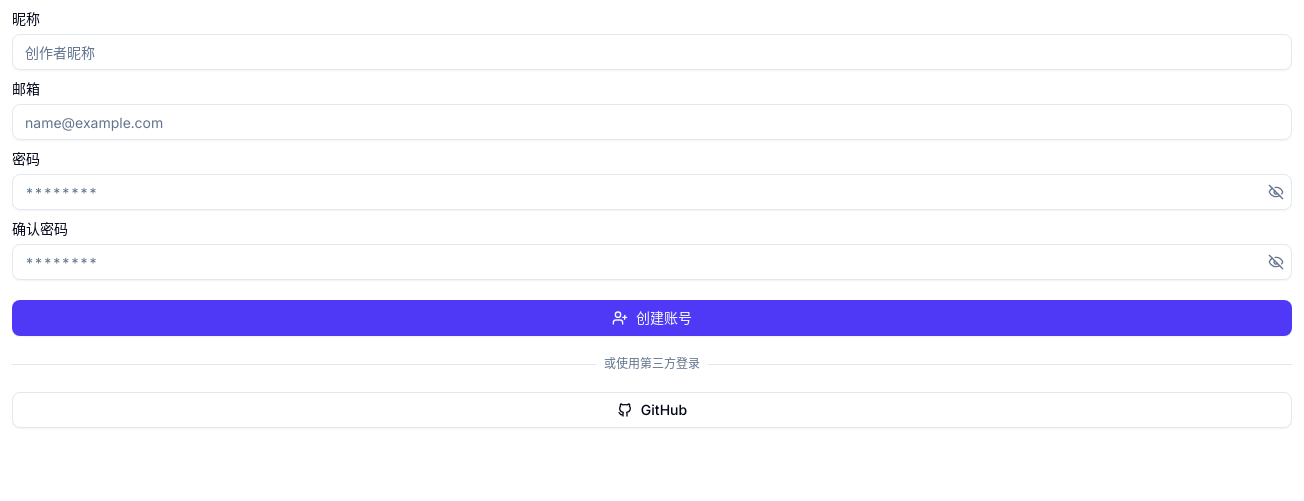
Test: SignUpForm › shows a mismatch error when passwords do not match
Type "测试用户" into the field labelled "昵称".
click(652, 52); type("测试用户")  # box [12, 34, 1292, 70]
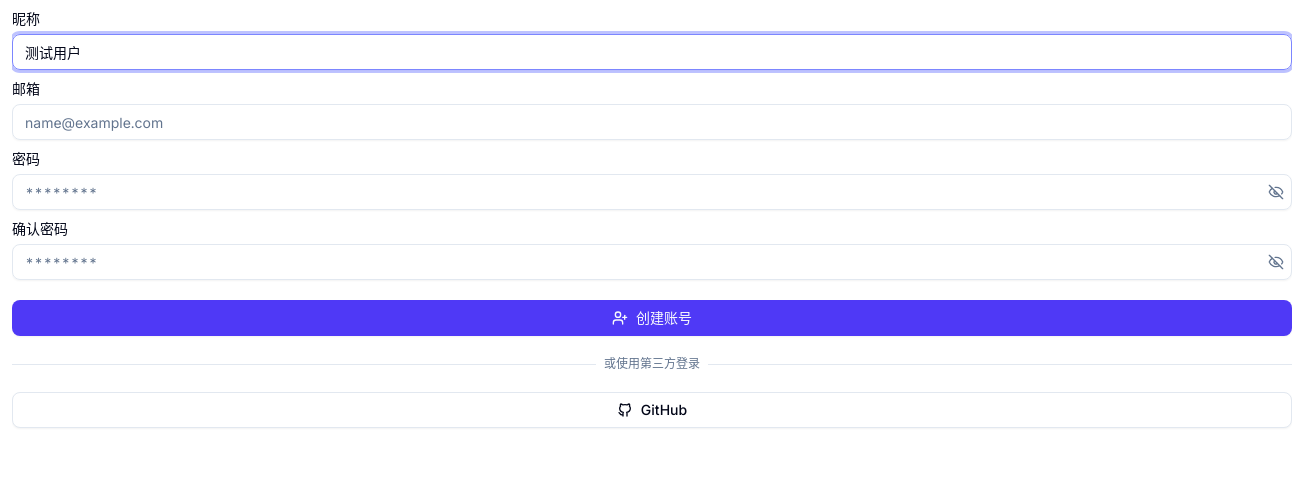
Type "a@b.com" into the field labelled "邮箱".
click(652, 122); type("a@b.com")  # box [12, 104, 1292, 140]
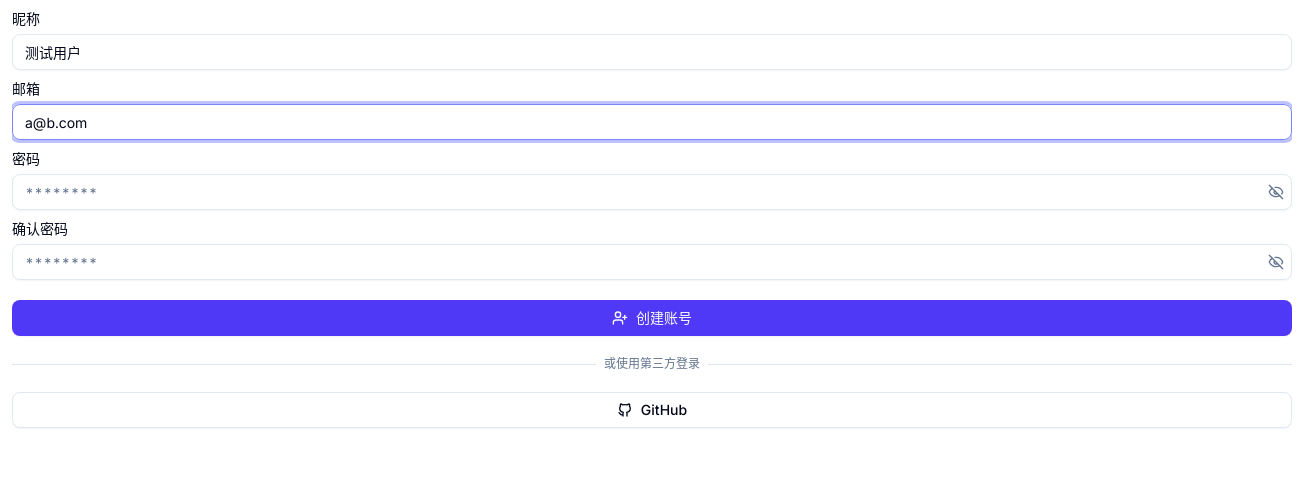
Type "1234567" into the password field labelled "密码".
click(652, 192); type("1234567")  # box [12, 174, 1292, 210]
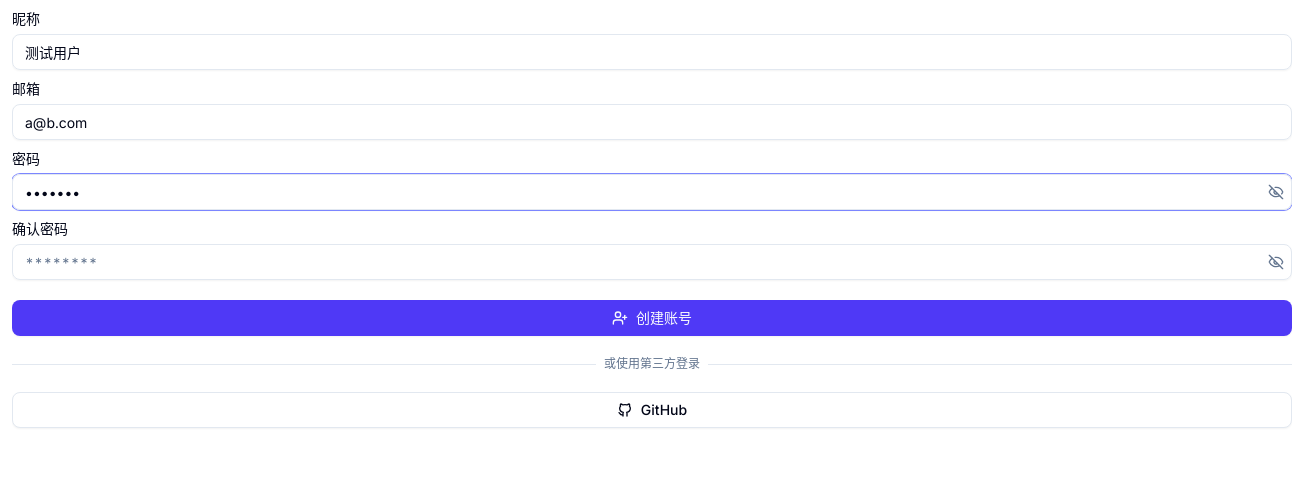
Type "7654321" into the password field labelled "确认密码".
click(652, 262); type("7654321")  # box [12, 244, 1292, 280]
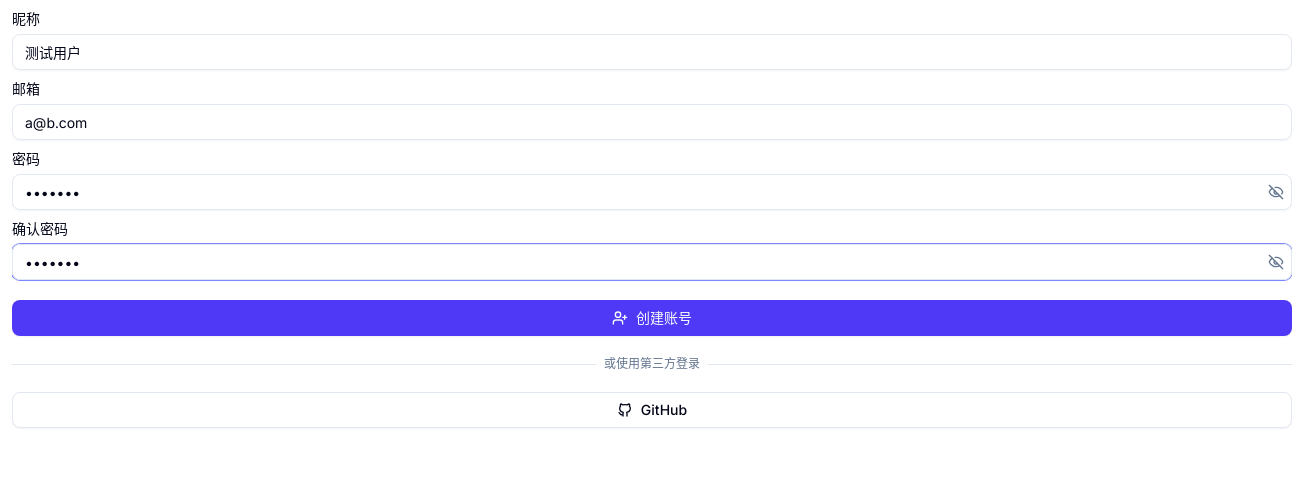
Click the button "创建账号".
click(652, 318)  # box [12, 300, 1292, 336]
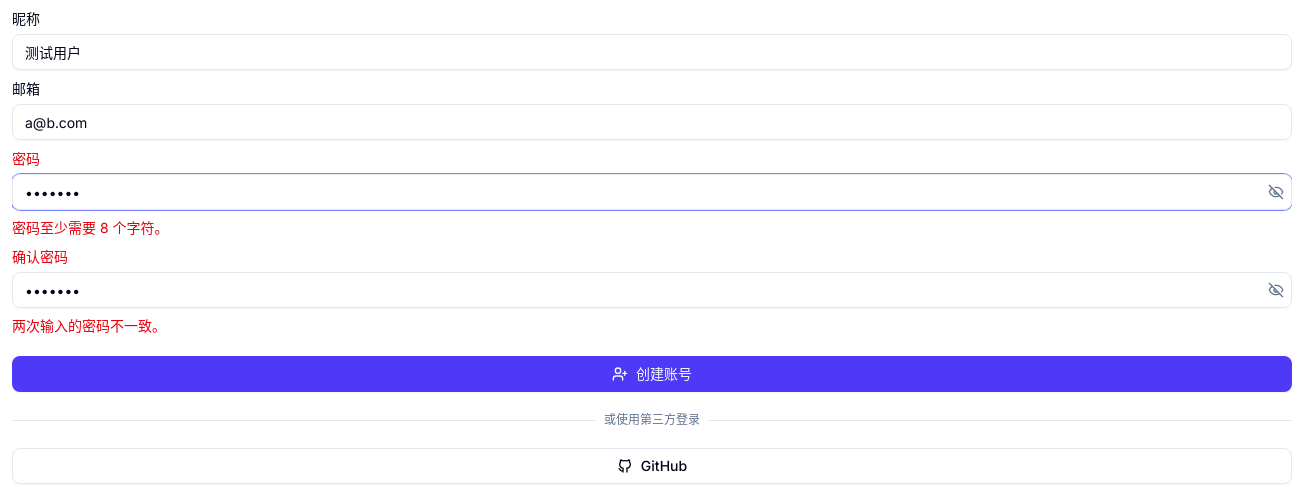
Now the text "两次输入的密码不一致。" is shown, box [12, 317, 166, 334]
